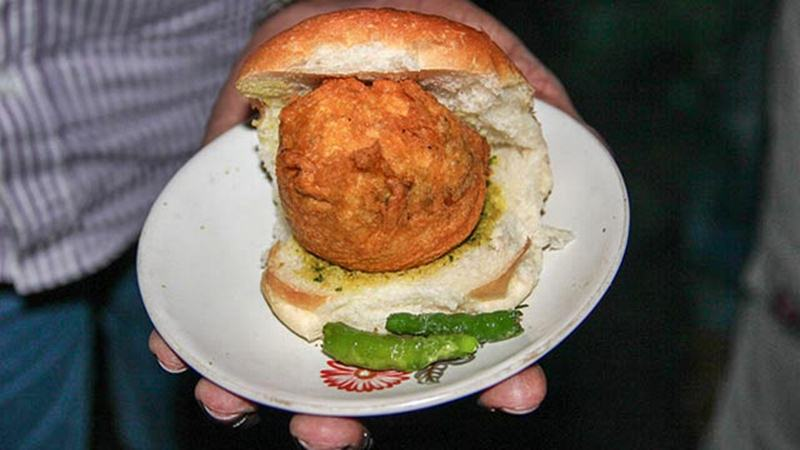vada pav: (264, 42, 502, 310)
